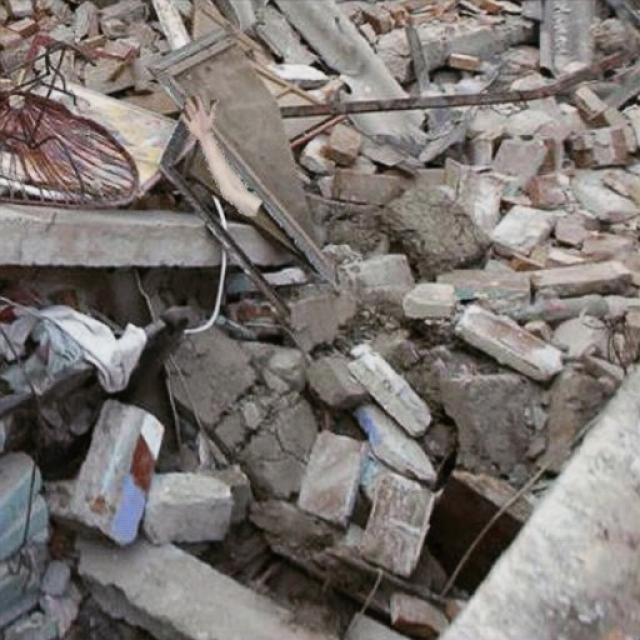Person in Rubble: (178, 96, 262, 215)
